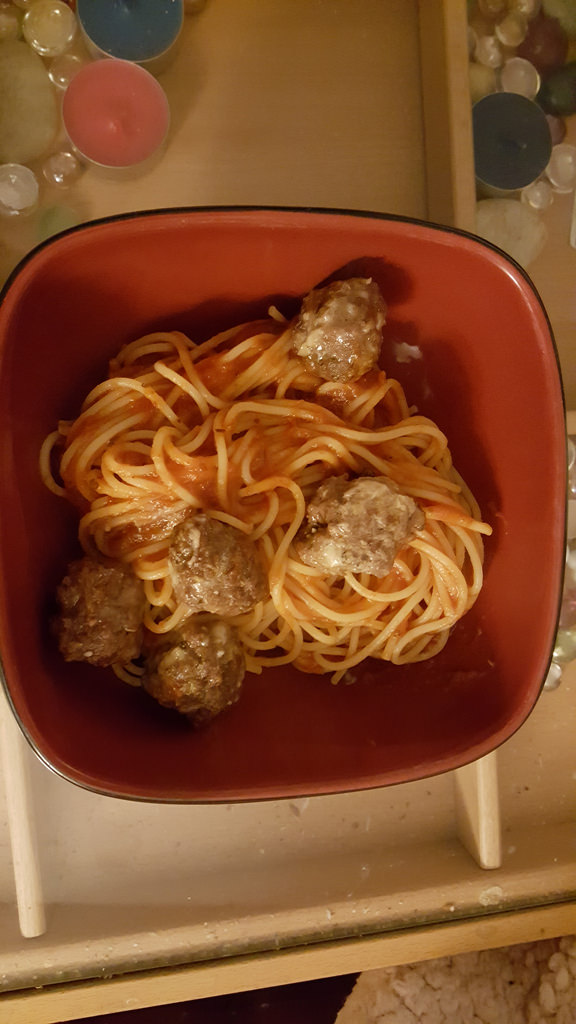meatballs: (74, 572, 248, 697)
plain spaghetti: (101, 362, 304, 492)
